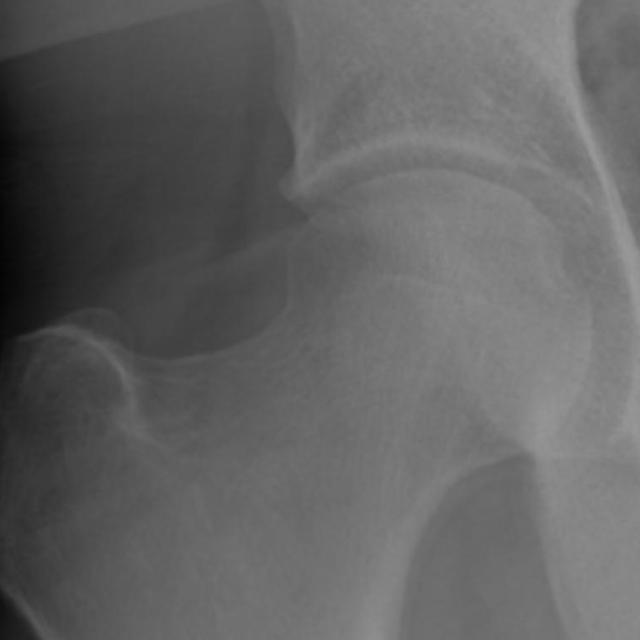Fitted_femural_head: (316, 167, 432, 316)
